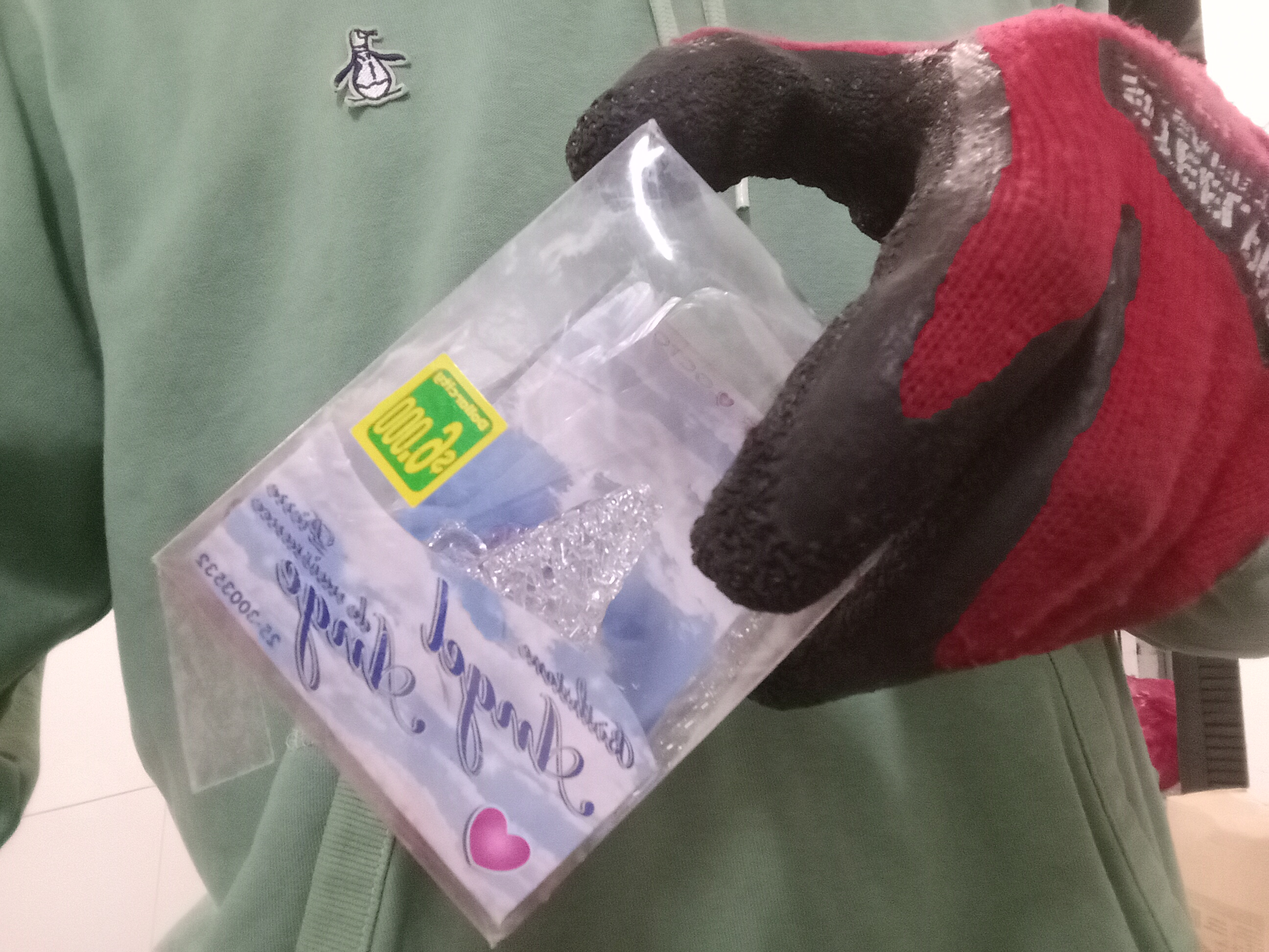Ordinario: (157, 117, 917, 952)
